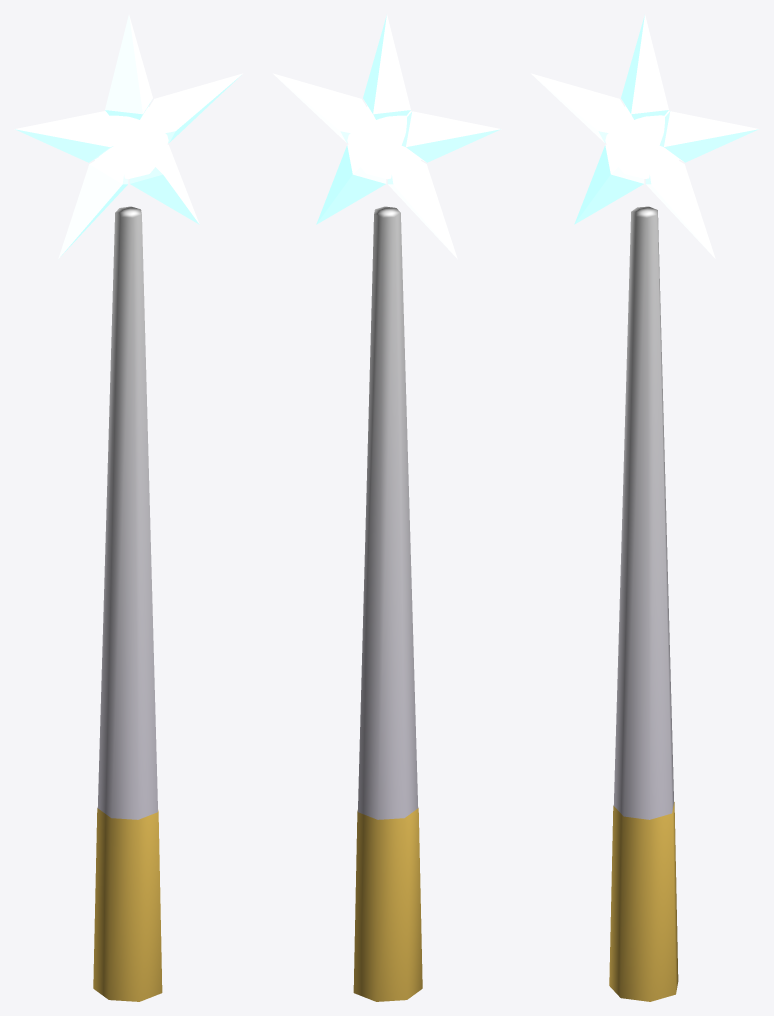
File: wand_frost.glb
The picture shows the model from 3 angles, left to right: view 1: azimuth 30°, elevation 25°; view 2: azimuth 150°, elevation 25°; view 3: azimuth 330°, elevation 25°; orthographic projection.
Visible parts, largest first — view 1: wand_frost; view 2: wand_frost; view 3: wand_frost.
Boxes of the visible parts, x1,y1,x2,y2 form: wand_frost: (14,15,242,1001); wand_frost: (273,15,501,1001); wand_frost: (531,15,759,1001).
Bounding box in the file's own units: 0.1331 × 0.54 × 0.04.
